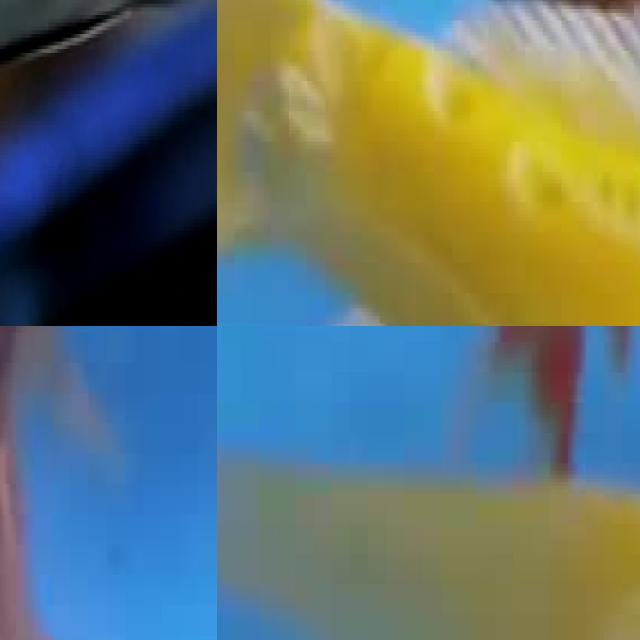fish: (0, 0, 217, 326), (217, 0, 640, 153)
